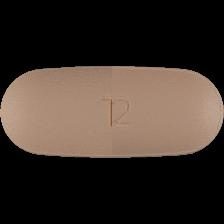65862-537: (0, 0, 224, 224)
